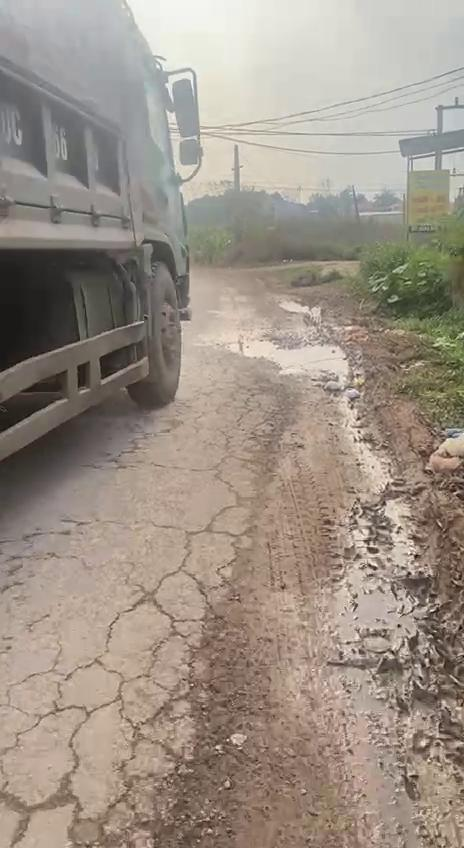pothole: (228, 324, 354, 388)
